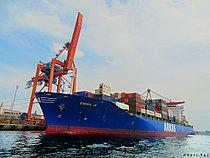Ship: (30, 80, 199, 144)
